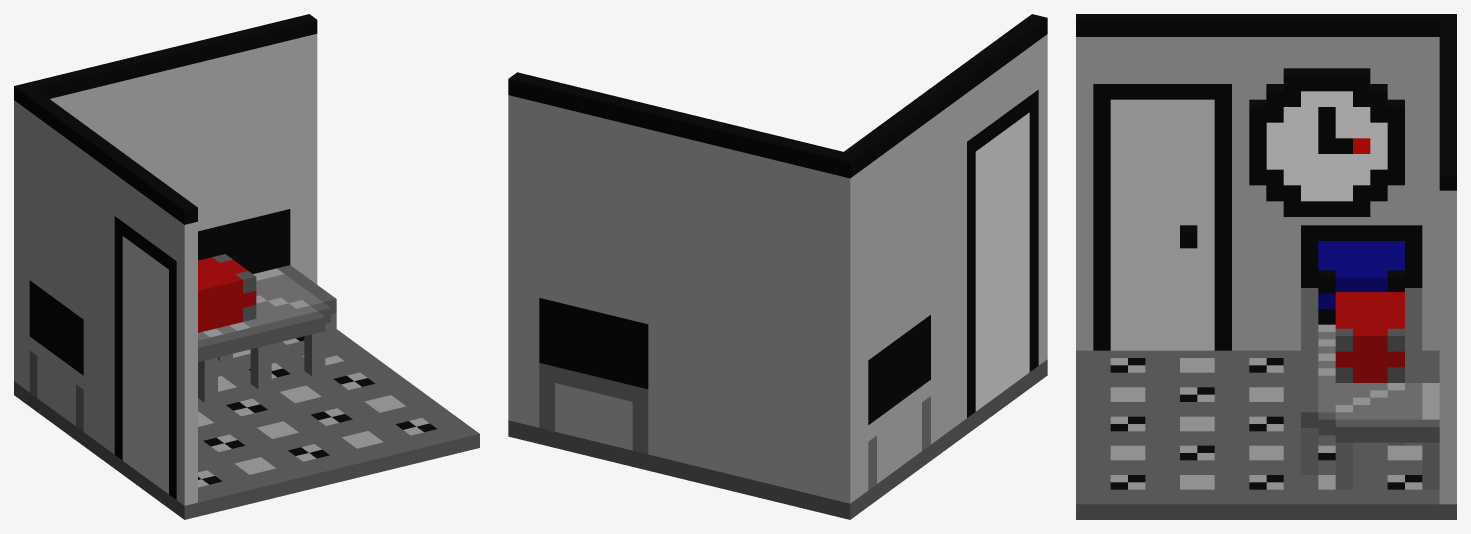
File: level_one-0.obj
3 renders of one model, left to right at view 1: azimuth 30°, elevation 25°; view 2: azimuth 150°, elevation 25°; view 3: azimuth 270°, elevation 25°, orthographic. The views are drawn at different scales.
Visible parts, largest first — view 1: level_one-0; view 2: level_one-0; view 3: level_one-0.
Part boxes in pixels (x1,y1,x2,y2): level_one-0: (14, 14, 479, 519); level_one-0: (508, 14, 1047, 519); level_one-0: (1076, 14, 1456, 519).
Size of the model in its own units: 22 by 22 by 22.
1 material, 1 textured.
